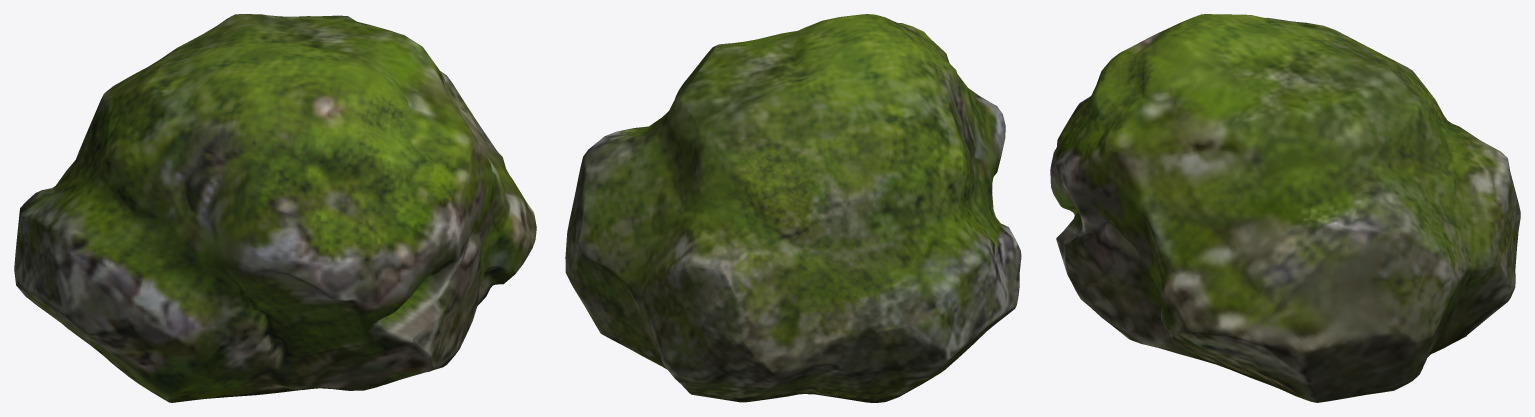
The model's file is Piedra_Grande.glb.
3 renders of one model, left to right at view 1: azimuth 30°, elevation 25°; view 2: azimuth 150°, elevation 25°; view 3: azimuth 270°, elevation 25°, orthographic. The views are drawn at different scales.
Visible parts, largest first — view 1: PiedraGrande; view 2: PiedraGrande; view 3: PiedraGrande.
Part boxes in pixels (bbox=[...]): PiedraGrande: bbox=[14, 14, 536, 402]; PiedraGrande: bbox=[565, 14, 1021, 402]; PiedraGrande: bbox=[1050, 14, 1520, 402].
Bounding box in the file's own units: 0.2448 × 0.167 × 0.2427.
Materials: 1 (1 with a texture image).
